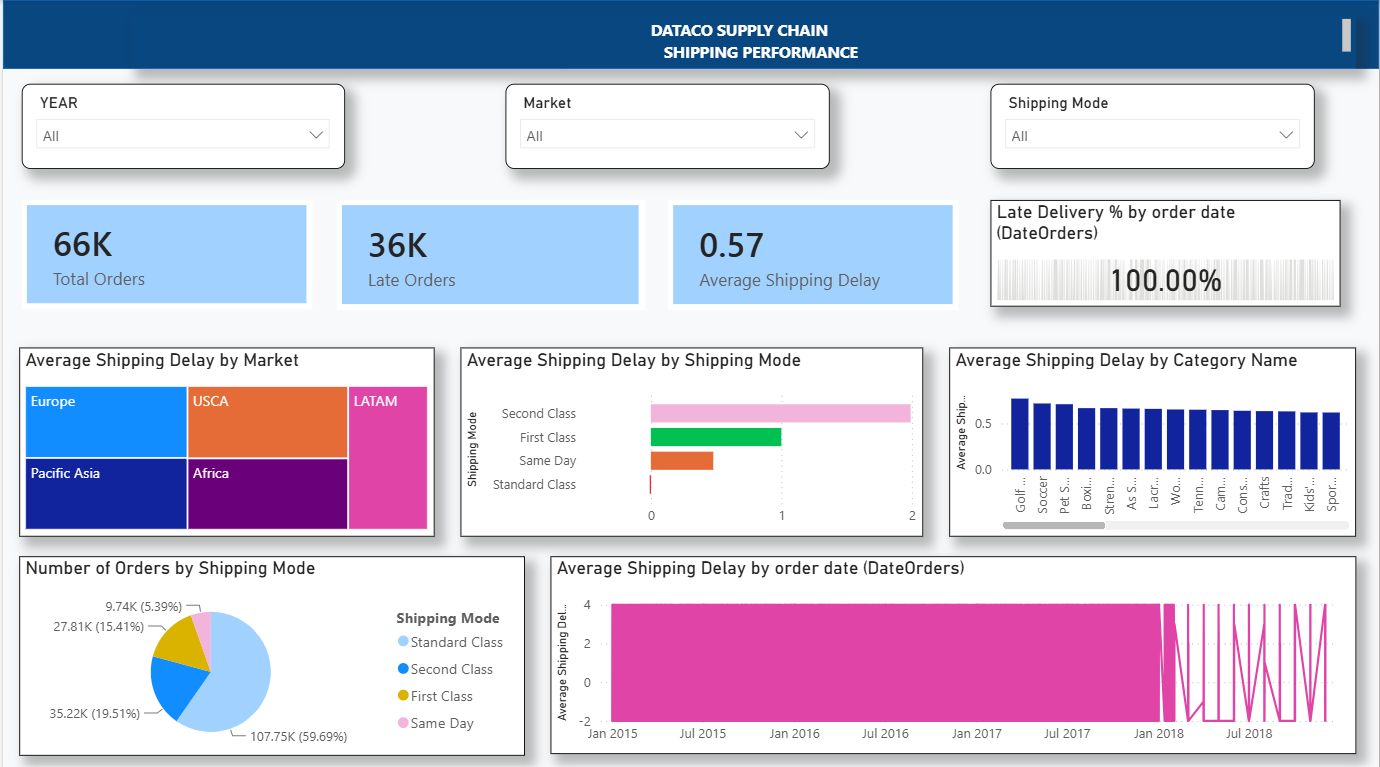

What the dashboard file says about the page in this screenshot:
{"tool":"powerbi","page":{"name":"Shipping performance","canvas":[1280,720],"ordinal":1},"visuals":[{"type":"textbox","box":[523.9,12.5,266.9,51.9],"z":0},{"type":"cardVisual","fields":{"Data":["Sheet1.Average Shipping Delay"]},"box":[618.5,186.3,270.2,102.4],"z":1000},{"type":"kpi","fields":{"Indicator":["Sheet1.Late Delivery %"],"TrendLine":["Sheet1.order date (DateOrders)"]},"box":[919,186.3,325.9,99.5],"z":2000},{"type":"cardVisual","fields":{"Data":["Sheet1.Late Orders"]},"box":[310.2,186.3,286.8,102.4],"z":3000},{"type":"treemap","fields":{"Group":["Sheet1.Market"],"Values":["Sheet1.Average Shipping Delay"]},"box":[14.6,322.9,386.3,175.6],"z":4000},{"type":"barChart","fields":{"Category":["Sheet1.Shipping Mode"],"Y":["Sheet1.Average Shipping Delay"]},"box":[425.4,322.9,430.2,175.6],"z":5000},{"type":"lineStackedColumnComboChart","fields":{"Category":["Sheet1.Category Name"],"Y":["Sheet1.Average Shipping Delay"]},"box":[880,322.9,378.5,175.6],"z":6000},{"type":"lineChart","fields":{"Category":["Sheet1.order date (DateOrders)"],"Y":["Sheet1.Average Shipping Delay"]},"box":[509.3,517.1,749.3,184.4],"z":7000},{"type":"shape","box":[0,0,1280,64.4],"z":8000},{"type":"textbox","box":[118.7,12.6,1139.9,51.6],"z":9000},{"type":"slicer","fields":{"Values":["Sheet1.YEAR"]},"box":[17.6,78,300.5,79],"z":10000},{"type":"slicer","fields":{"Values":["Sheet1.Market"]},"box":[467.3,78,301.5,79],"z":11000},{"type":"cardVisual","fields":{"Data":["Sheet1.Total Orders"]},"box":[17.6,186.3,270.2,101.5],"z":12000},{"type":"slicer","fields":{"Values":["Sheet1.Shipping Mode"]},"box":[919,78,301.5,79],"z":13000},{"type":"pieChart","fields":{"Category":["Sheet1 (2).Shipping Mode"],"Y":["CountNonNull(Sheet1.Order Id)"]},"box":[14.6,517.1,470.2,185.4],"z":14000}]}

Visuals, with their boxes in screenshot pixels (x1, y1, x2, y2), scaled from the page's 1280x720 canvas onto the 1380x767 screenshot:
textbox: x1=565 y1=13 x2=853 y2=69
cardVisual - Sheet1.Average Shipping Delay: x1=667 y1=198 x2=958 y2=308
kpi - Sheet1.Late Delivery % x Sheet1.order date (DateOrders): x1=991 y1=198 x2=1342 y2=304
cardVisual - Sheet1.Late Orders: x1=334 y1=198 x2=644 y2=308
treemap - Sheet1.Market x Sheet1.Average Shipping Delay: x1=16 y1=344 x2=432 y2=531
barChart - Sheet1.Shipping Mode x Sheet1.Average Shipping Delay: x1=459 y1=344 x2=922 y2=531
lineStackedColumnComboChart - Sheet1.Category Name x Sheet1.Average Shipping Delay: x1=949 y1=344 x2=1357 y2=531
lineChart - Sheet1.order date (DateOrders) x Sheet1.Average Shipping Delay: x1=549 y1=551 x2=1357 y2=747
shape: x1=0 y1=0 x2=1379 y2=69
textbox: x1=128 y1=13 x2=1357 y2=68
slicer - Sheet1.YEAR: x1=19 y1=83 x2=343 y2=167
slicer - Sheet1.Market: x1=504 y1=83 x2=829 y2=167
cardVisual - Sheet1.Total Orders: x1=19 y1=198 x2=310 y2=307
slicer - Sheet1.Shipping Mode: x1=991 y1=83 x2=1316 y2=167
pieChart - Sheet1 (2).Shipping Mode x CountNonNull(Sheet1.Order Id): x1=16 y1=551 x2=523 y2=748
